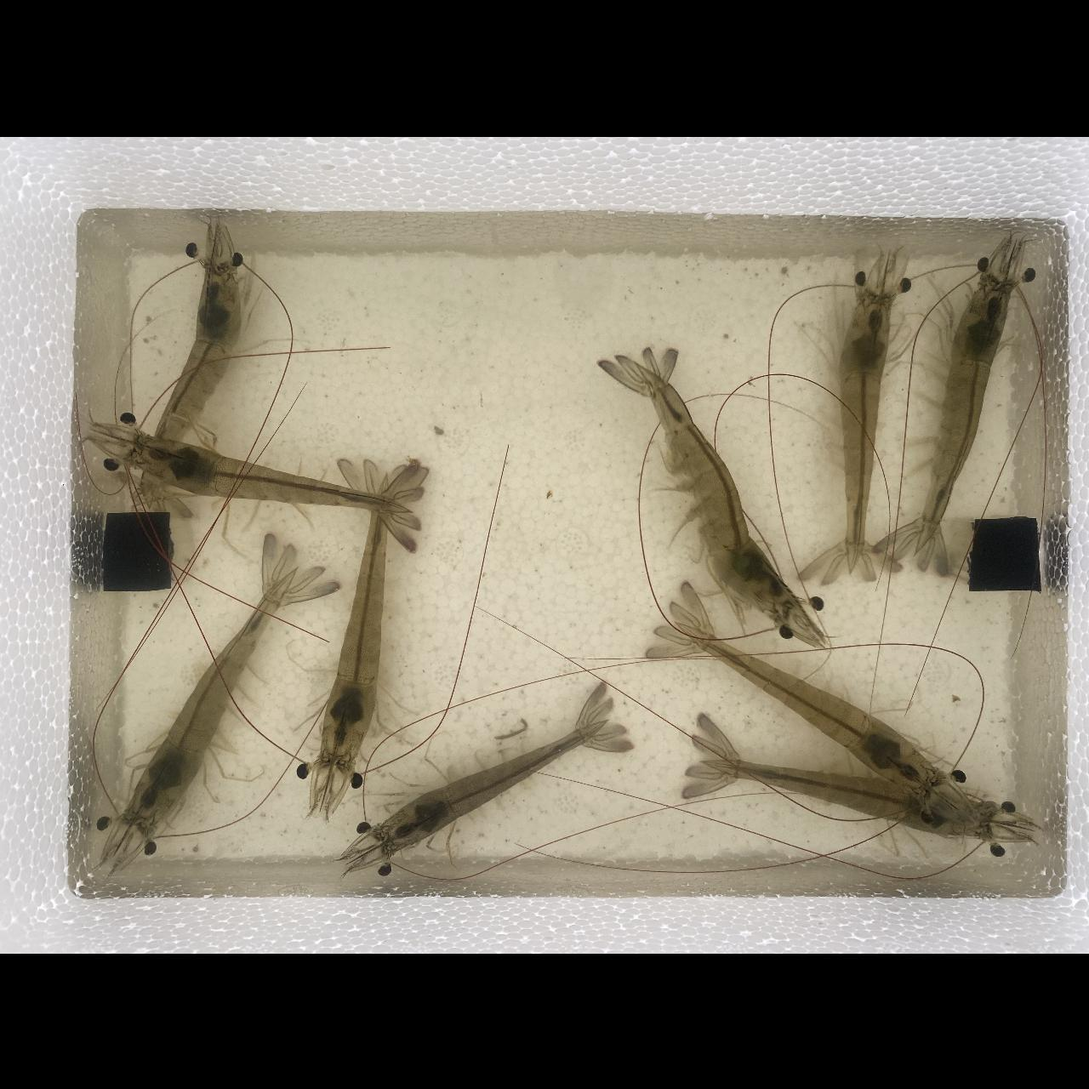box: (100, 510, 172, 590), (968, 516, 1040, 590)
top_shrimp: (126, 565, 294, 827), (687, 628, 936, 798), (641, 368, 788, 614), (641, 368, 786, 614), (379, 721, 601, 849), (919, 282, 1007, 544), (711, 759, 984, 835), (131, 439, 407, 509), (323, 497, 390, 766), (150, 265, 240, 444), (837, 298, 890, 567)
